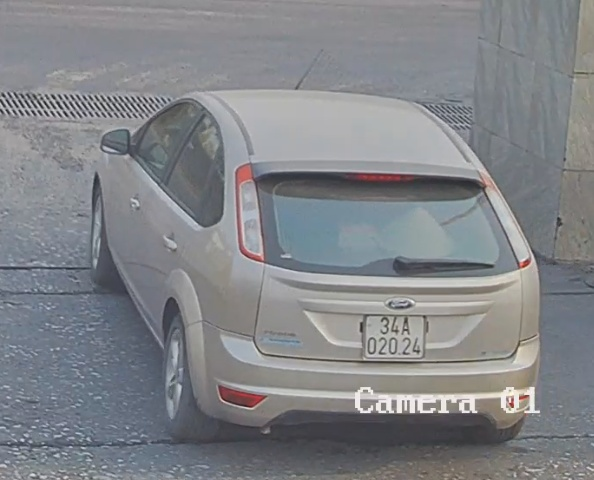vehicle plate: (363, 311, 429, 362)
